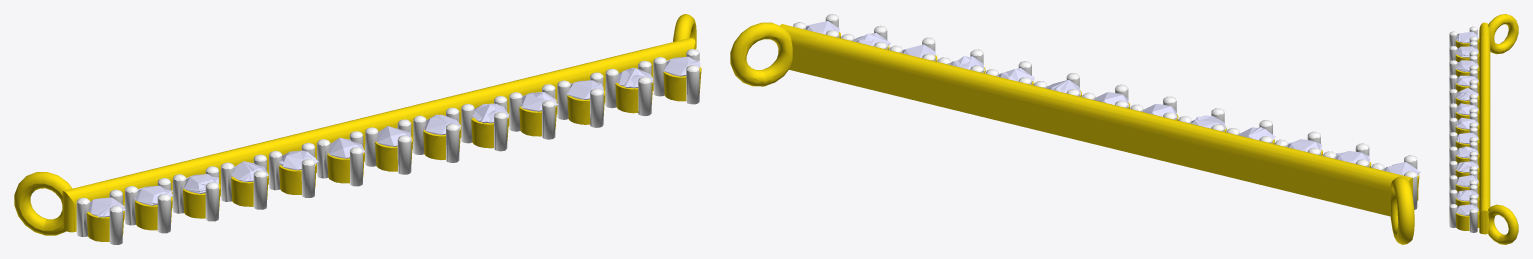
File: DPN-D000673583.glb
3 views of the same model, side by side, from view 1: azimuth 30°, elevation 25°; view 2: azimuth 150°, elevation 25°; view 3: azimuth 270°, elevation 25° (orthographic). The views are drawn at different scales.
Visible parts, largest first — view 1: highPolyMesh, lowPolyMesh; view 2: lowPolyMesh, highPolyMesh; view 3: highPolyMesh, lowPolyMesh.
Part boxes in pixels (x1,y1,x2,y2): highPolyMesh: (14, 14, 701, 244); lowPolyMesh: (14, 14, 701, 244); lowPolyMesh: (730, 14, 1420, 244); highPolyMesh: (730, 14, 1419, 244); highPolyMesh: (1449, 14, 1518, 244); lowPolyMesh: (1449, 14, 1518, 243).
Bounding box in the file's own units: 0.0326 × 0.00285 × 0.00469.
